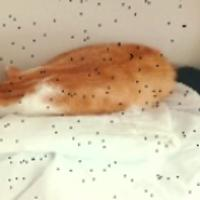asleep: (0, 39, 178, 117)
